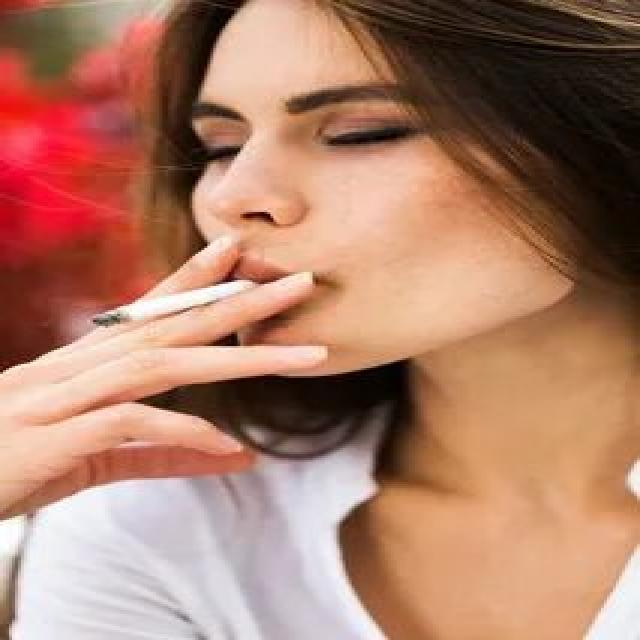smoke: (84, 276, 280, 330)
